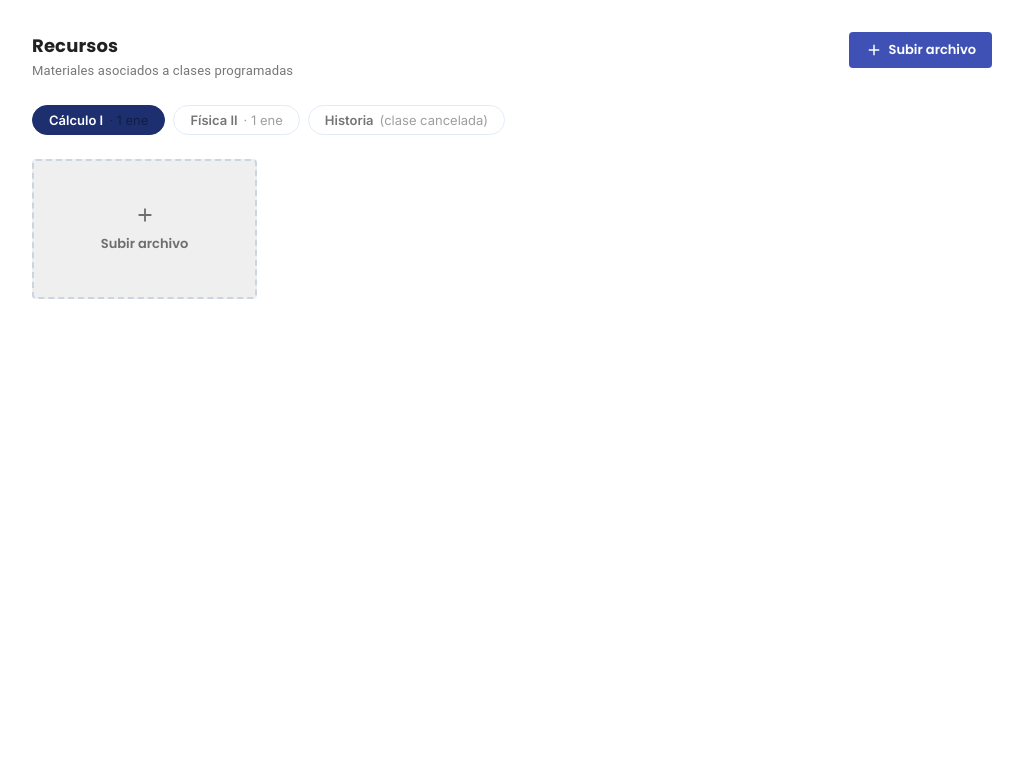
the ResourcesTab component › offers bulk delete for a cancelled class and clears every one of its files at once
Click the button with test id "dashboard-resources-pill-class-gone": (406, 120) [308,104,505,134]
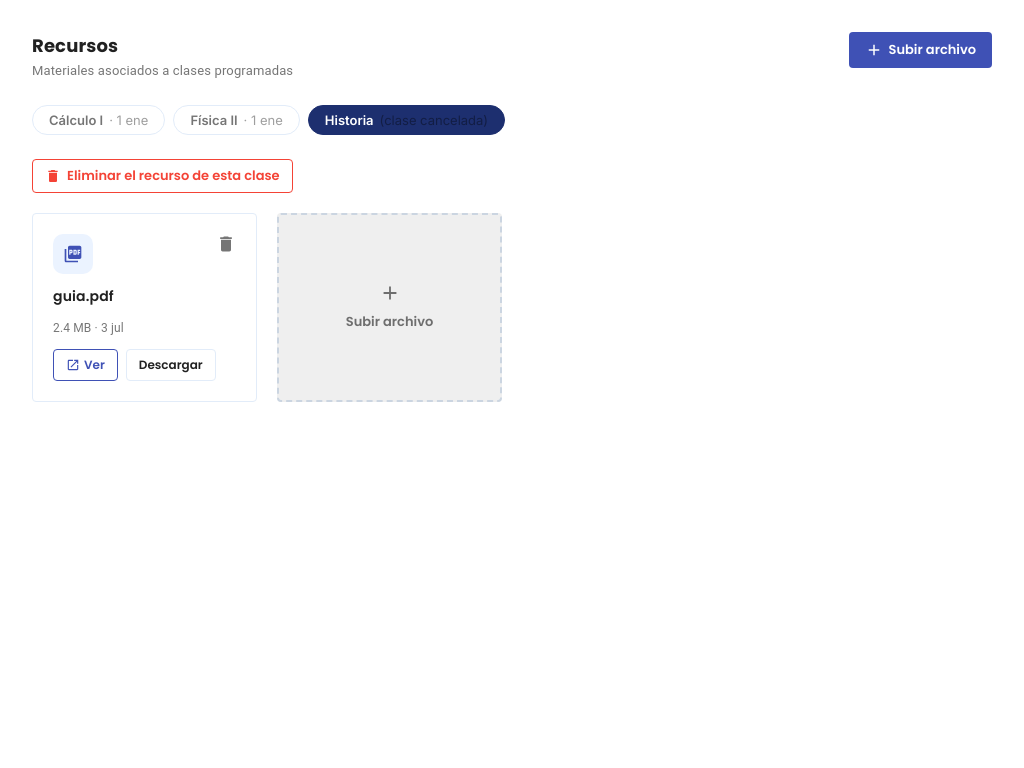
Expected: the text "(clase cancelada)" is shown, [380,112,488,128]
Result: the button with test id "dashboard-resources-bulk-delete-button" is shown
Click the button with test id "dashboard-resources-bulk-delete-button": (162, 176) [32,158,293,192]
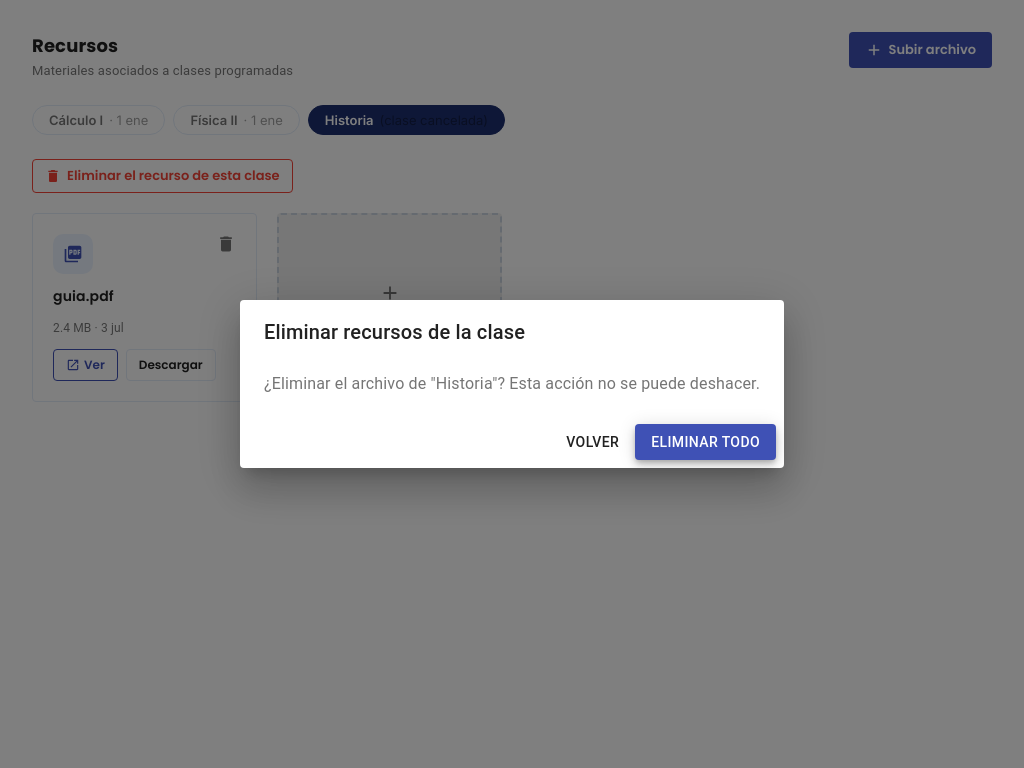
Click the button with test id "dashboard-confirm-dialog-confirm": (706, 442) [635,424,776,460]
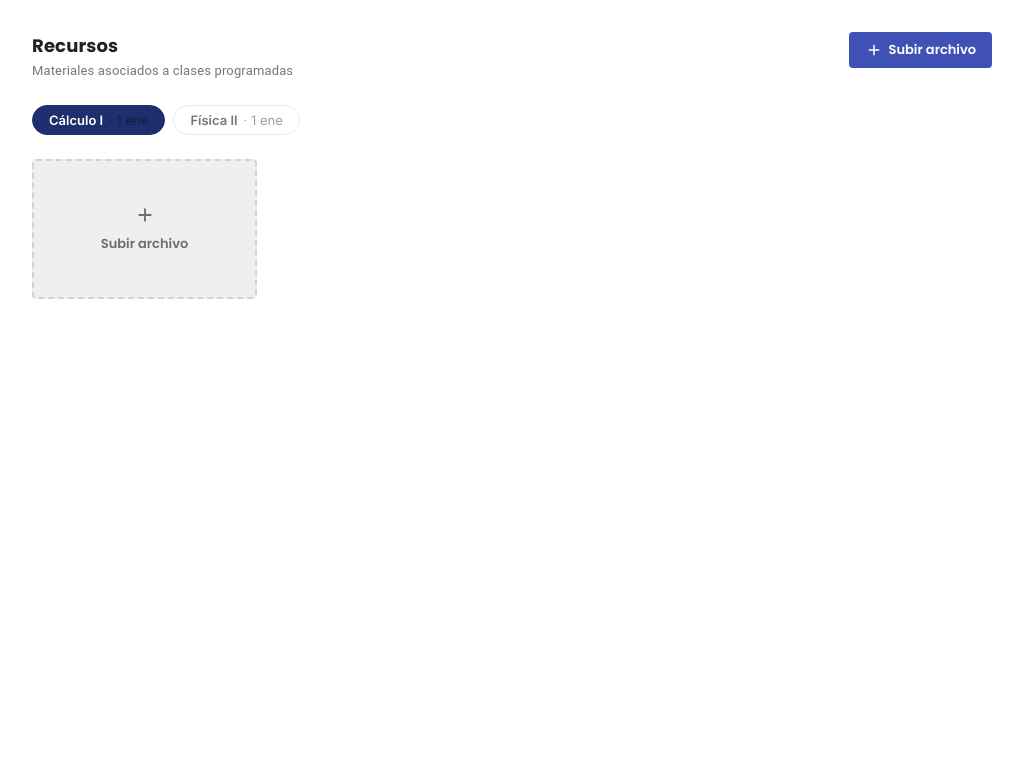
Result: the element with test id "dashboard-resource-file-file-orphan" is gone
Result: the button with test id "dashboard-resources-pill-class-gone" is gone
